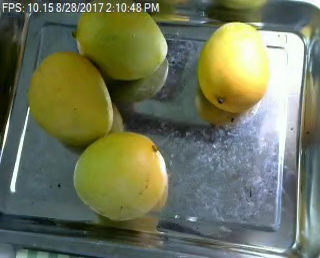Mango: (74, 131, 165, 224), (31, 51, 114, 142), (72, 2, 167, 78), (196, 20, 267, 111)
